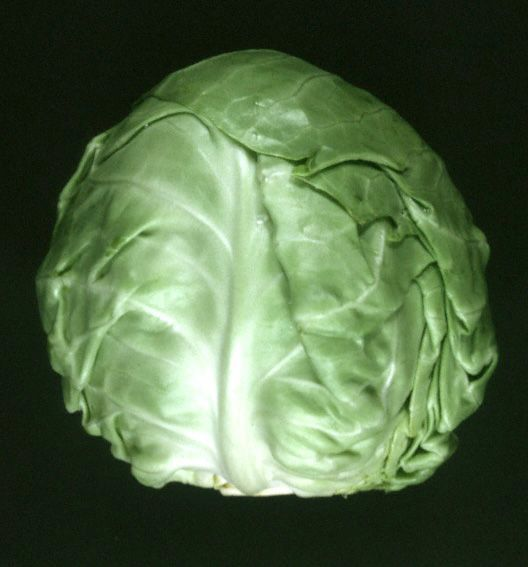cabbage: (34, 48, 499, 498)
